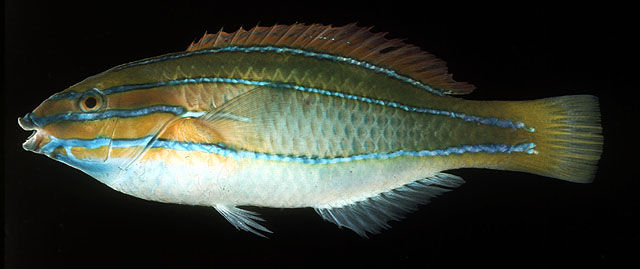fish: (17, 23, 605, 240)
